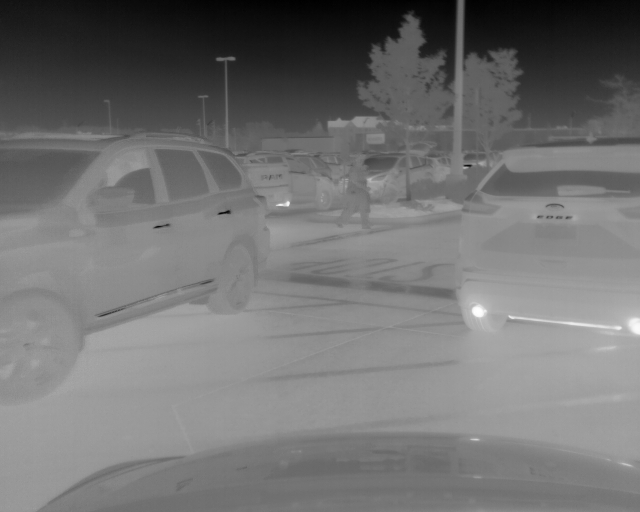car: (1, 127, 268, 404), (451, 134, 640, 342), (250, 149, 340, 213), (363, 152, 448, 204), (238, 153, 291, 215), (463, 150, 493, 168)
people: (335, 155, 372, 230)
